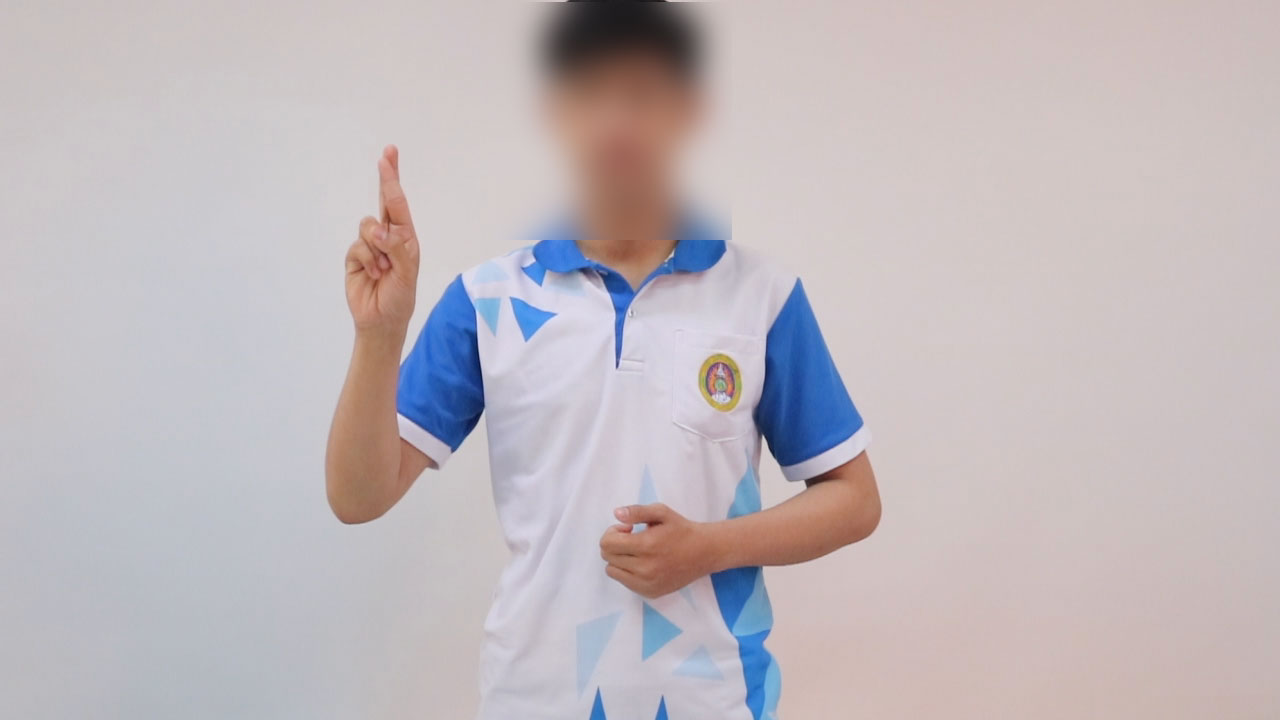rao: (317, 137, 437, 355)
